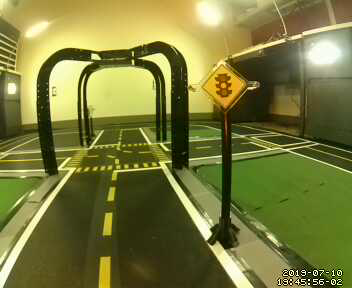Traffic light sign: (203, 64, 246, 108)
